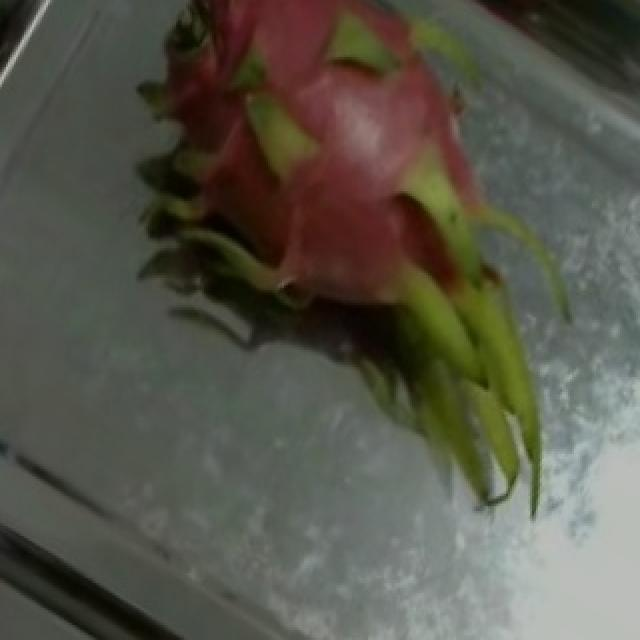fruit: (210, 0, 634, 439)
